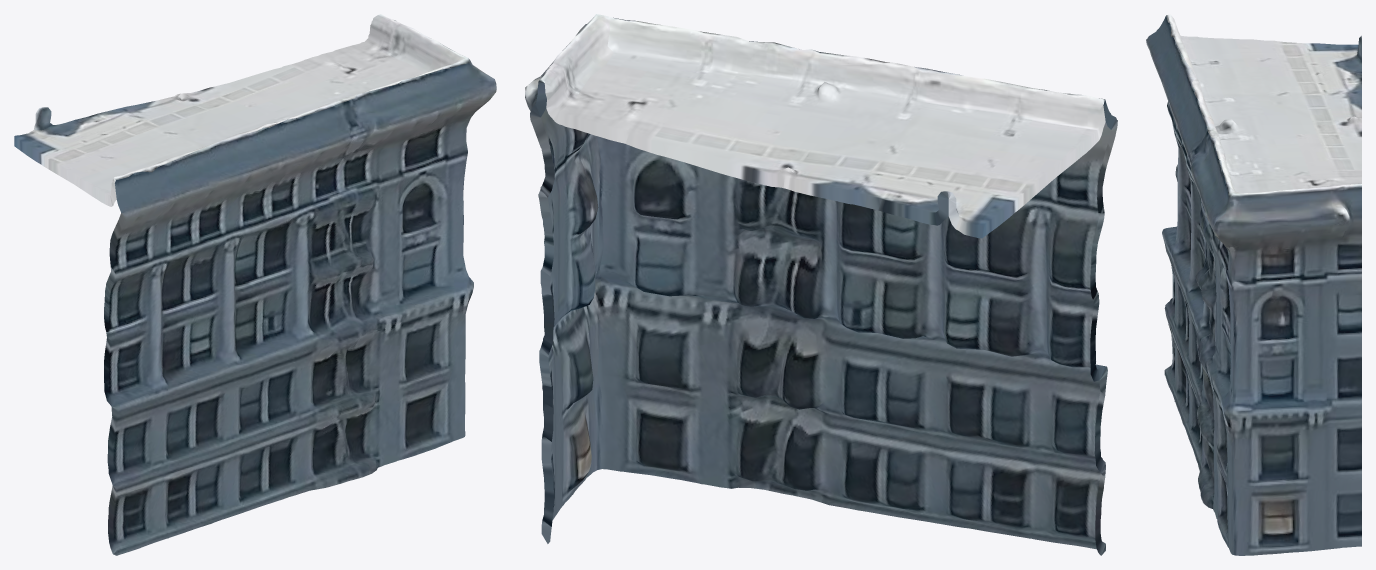
Rendered from z20-167756-405244-h1-yup-uvflip-v3-world.glb.
3 renders of one model, left to right at view 1: azimuth 30°, elevation 25°; view 2: azimuth 150°, elevation 25°; view 3: azimuth 270°, elevation 25°, orthographic. The views are drawn at different scales.
Bounding box in the file's own units: 25.08 × 22.68 × 12.
1 material, 1 textured.
